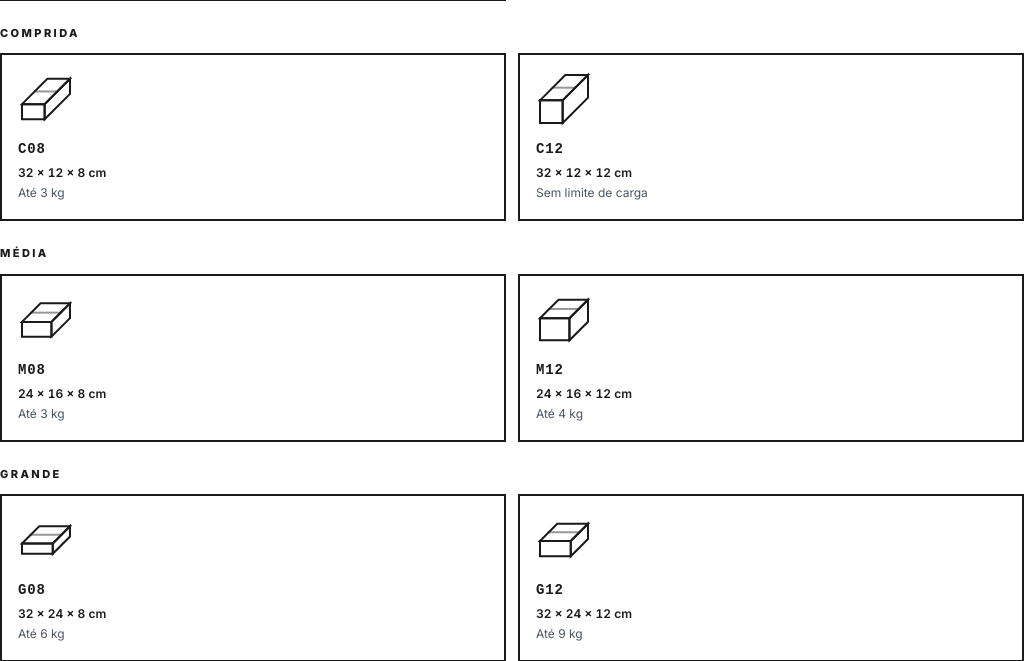
it: VendorPackagingManager › abre a bancada já preenchida com o modelo M08, sem tara
(page scrolled)
What coordinates should you click on to do the following:
click the button "M08 24 × 16 × 8 cm Até 3 kg"
I would click on:
 (46, 320)
Its box is [0, 274, 506, 442].
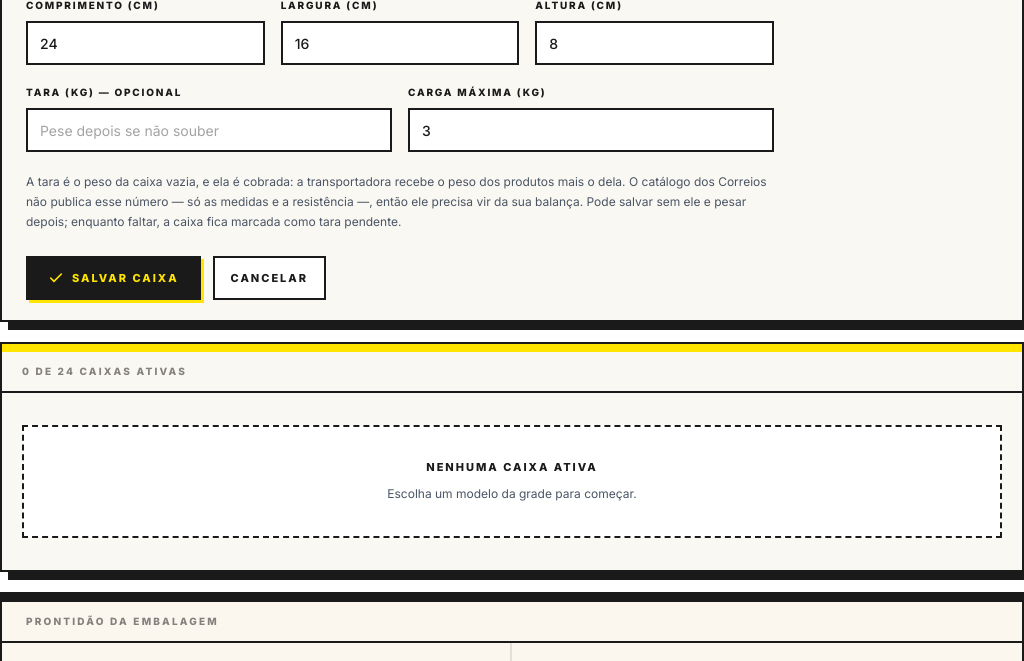
Expected: the field labelled "Comprimento (cm)" holds "24", [26, 21, 265, 65]
Expected: the field labelled "Largura (cm)" holds "16", [281, 21, 519, 65]
Expected: the field labelled "Altura (cm)" holds "8", [535, 21, 774, 65]
